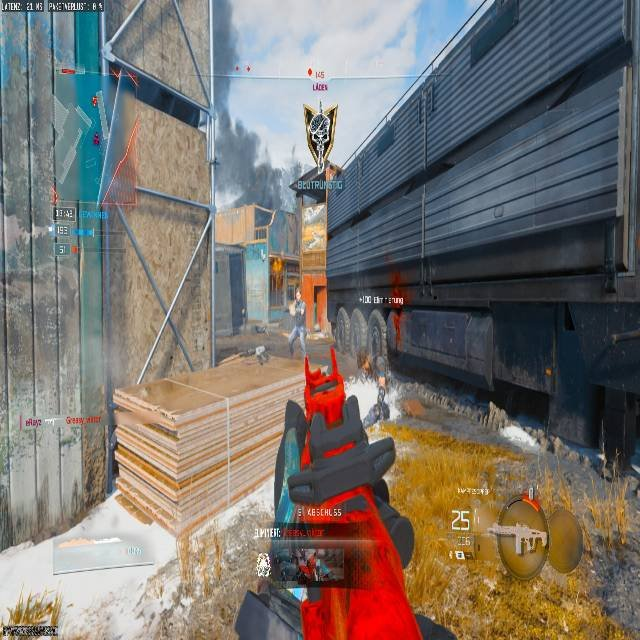player: (287, 295, 306, 357)
